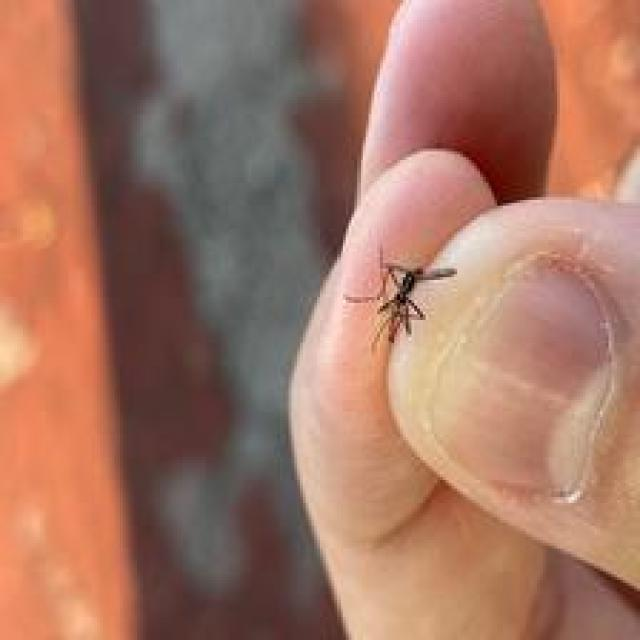Aedes albopictus: (342, 244, 458, 353)
